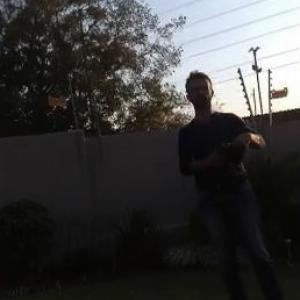follow: (172, 63, 292, 299)
